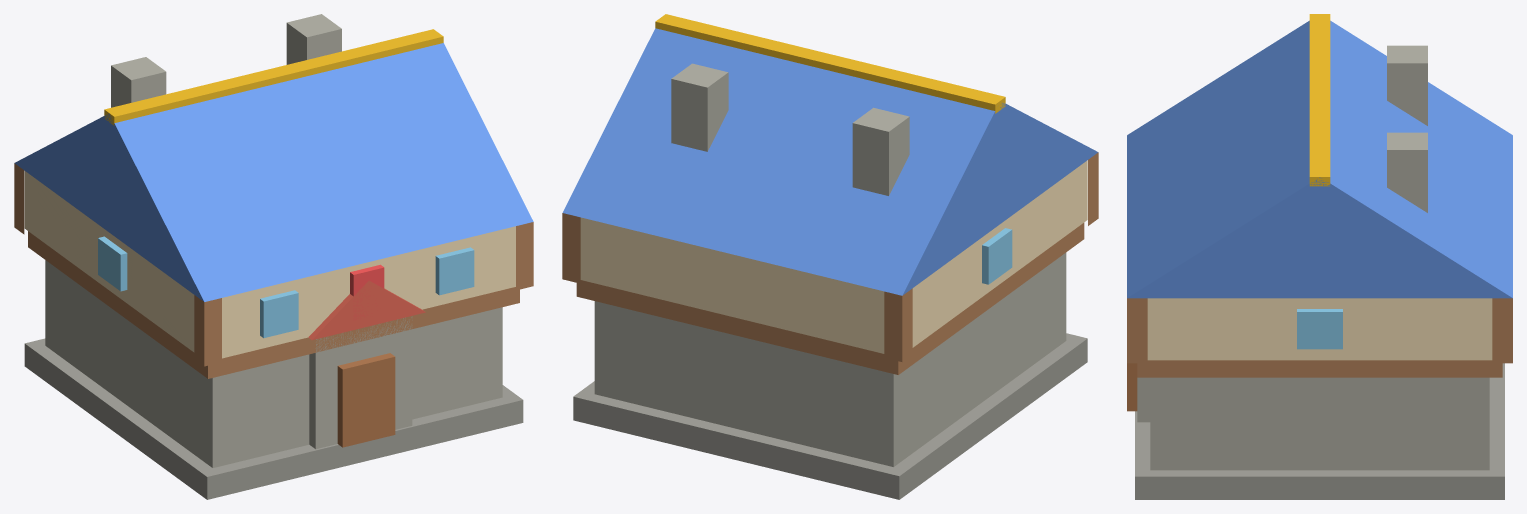
The model's file is house_t3_v4.glb.
The picture shows the model from 3 angles, left to right: view 1: azimuth 30°, elevation 25°; view 2: azimuth 150°, elevation 25°; view 3: azimuth 270°, elevation 25°; orthographic projection. The views are drawn at different scales.
Parts seen in each view (by area): view 1: house_t3_v4; view 2: house_t3_v4; view 3: house_t3_v4.
Part boxes in pixels (bbox=[...]): house_t3_v4: bbox=[14, 14, 533, 499]; house_t3_v4: bbox=[562, 14, 1098, 499]; house_t3_v4: bbox=[1127, 14, 1512, 499].
Bounding box in the file's own units: 0.75 × 0.7 × 0.75.
1 material, 1 textured.
